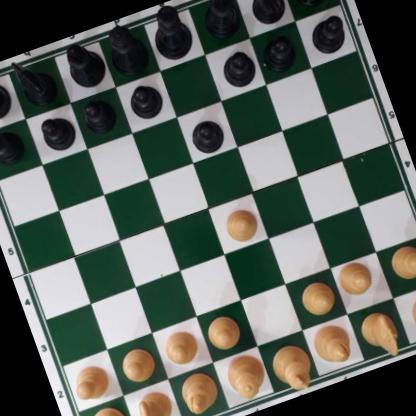black-bishop: (60, 35, 110, 92), (194, 0, 245, 43)
black-king: (143, 0, 197, 64)
black-knight: (10, 50, 61, 111), (241, 0, 291, 29)
black-pawn: (305, 11, 351, 58), (185, 112, 229, 157), (36, 109, 78, 155), (257, 30, 300, 74), (217, 47, 260, 91), (125, 78, 166, 122), (78, 94, 119, 138), (0, 125, 27, 169)
black-queen: (101, 18, 154, 79)
black-rook: (0, 66, 15, 126), (283, 0, 340, 10)
white-bishop: (309, 319, 356, 371), (175, 367, 222, 416)
white-king: (268, 338, 315, 396)
white-knight: (357, 306, 406, 364), (134, 386, 180, 416)
white-pawn: (67, 360, 115, 406), (158, 325, 201, 369), (219, 203, 262, 246), (295, 277, 337, 319), (335, 257, 376, 300), (203, 311, 244, 352), (117, 343, 158, 384), (386, 240, 416, 284)
white-queen: (221, 347, 270, 406)
white-rook: (77, 401, 134, 416), (406, 285, 416, 341)
